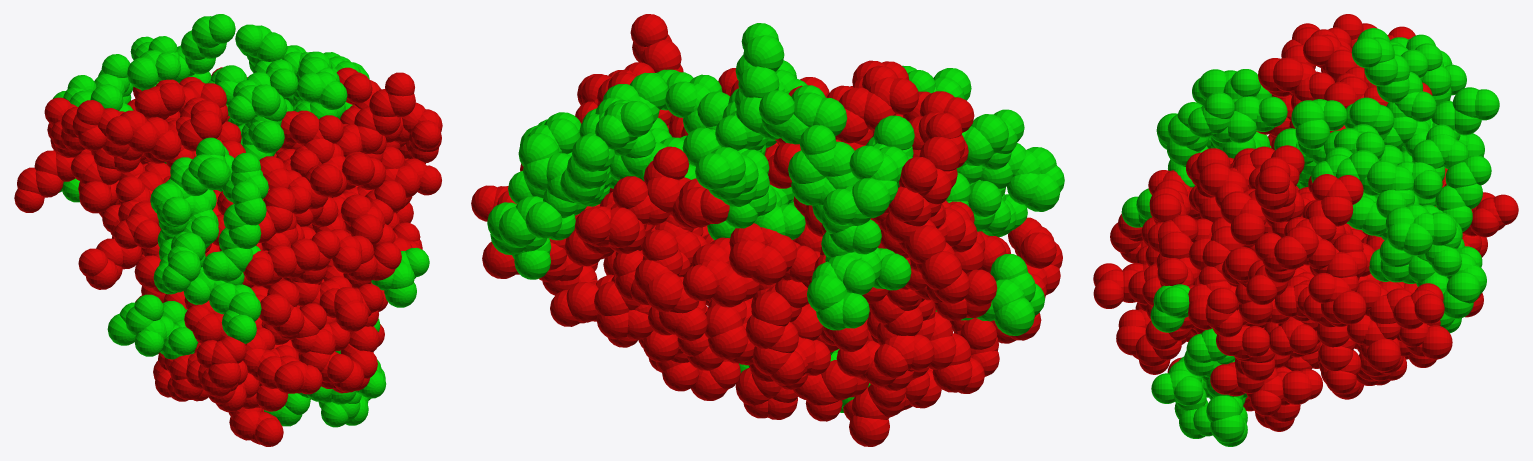
Rendered from 1mbn__spheres__secondary-structure.glb.
The picture shows the model from 3 angles, left to right: view 1: azimuth 30°, elevation 25°; view 2: azimuth 150°, elevation 25°; view 3: azimuth 270°, elevation 25°; orthographic projection. The views are drawn at different scales.
Parts seen in each view (by area): view 1: Renderer Node; view 2: Renderer Node; view 3: Renderer Node.
Part boxes in pixels (box(x1,y1,x2,y2)): Renderer Node: box(14, 14, 442, 446); Renderer Node: box(471, 14, 1064, 446); Renderer Node: box(1093, 14, 1518, 446).
Bounding box in the file's own units: 45.93 × 42.13 × 41.97.
